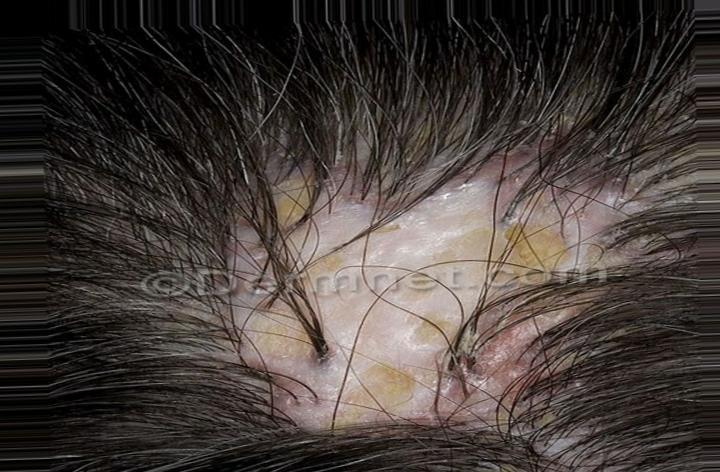Folliculitis: (218, 151, 611, 444)
